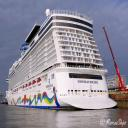cruises: (6, 9, 120, 113)
